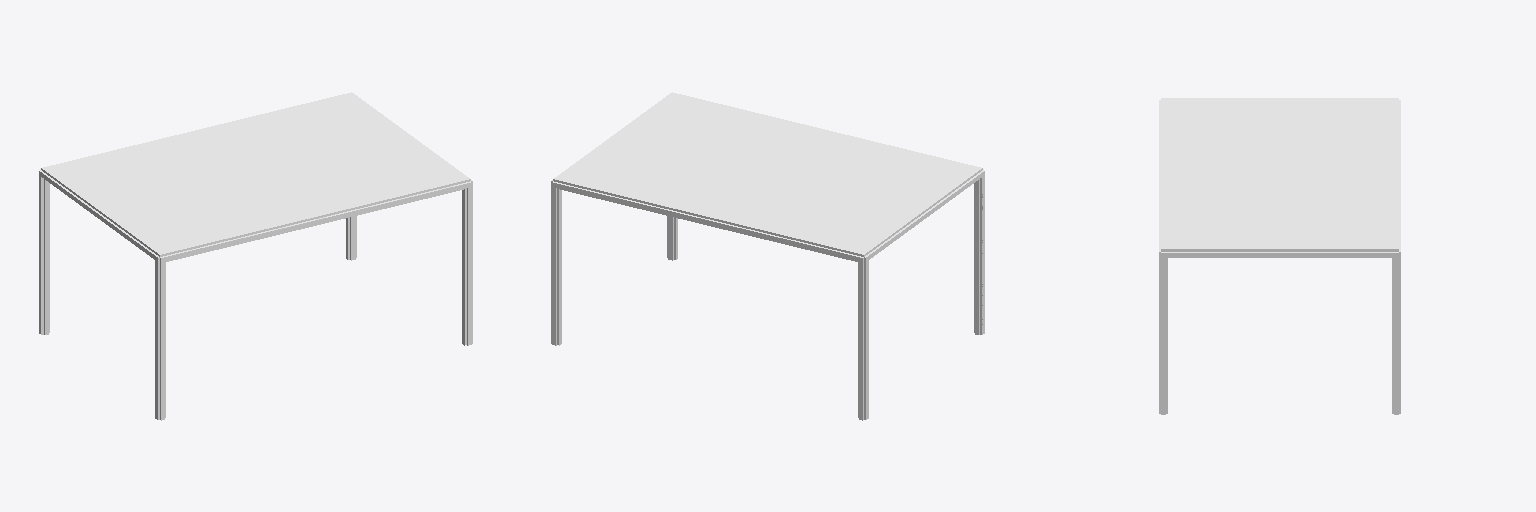
File: big_table.obj
3 views of the same model, side by side, from view 1: azimuth 30°, elevation 25°; view 2: azimuth 150°, elevation 25°; view 3: azimuth 270°, elevation 25° (orthographic).
Visible parts, largest first — view 1: object 1; view 2: object 1; view 3: object 1.
Boxes of the visible parts, x1=… form: object 1: x1=39, y1=92, x2=472, y2=420; object 1: x1=551, y1=92, x2=984, y2=420; object 1: x1=1159, y1=98, x2=1400, y2=414.
Size of the model in its own units: 15 by 7.5 by 10.